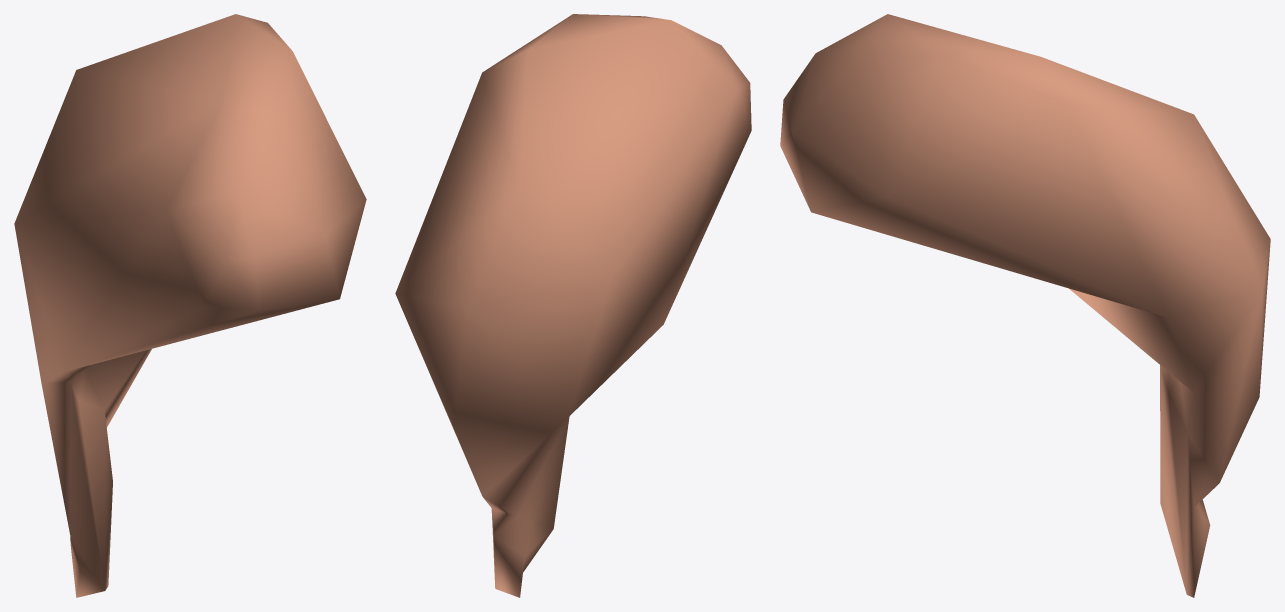
The model's file is epididymis-l.glb.
3 renders of one model, left to right at view 1: azimuth 30°, elevation 25°; view 2: azimuth 150°, elevation 25°; view 3: azimuth 270°, elevation 25°, orthographic. The views are drawn at different scales.
Parts seen in each view (by area): view 1: Epididymis.l; view 2: Epididymis.l; view 3: Epididymis.l.
Boxes of the visible parts, x1,y1,x2,y2 form: Epididymis.l: (14, 14, 366, 597); Epididymis.l: (395, 14, 751, 597); Epididymis.l: (780, 14, 1270, 597).
Size of the model in its own units: 0.00968 by 0.0253 by 0.0198.
